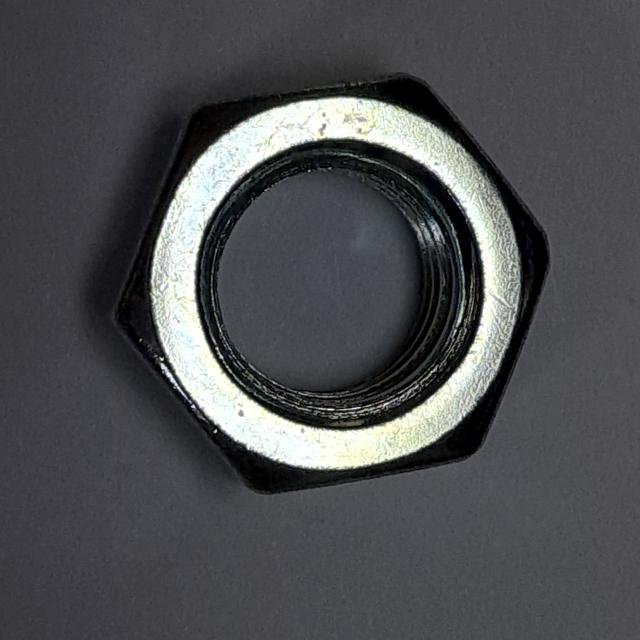Excellent: (91, 55, 561, 516)
